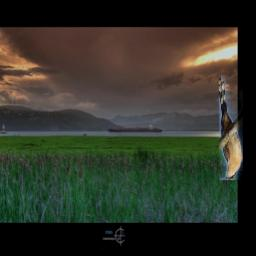Cuckoo: (219, 75, 243, 180)
